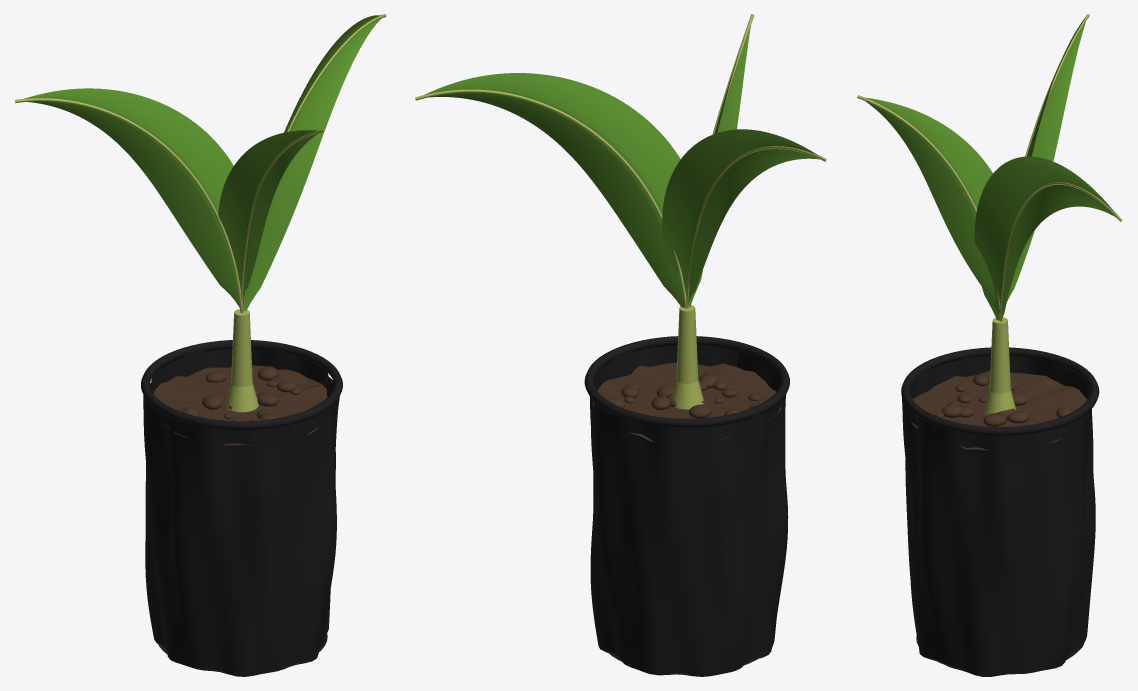
File: bibit-sawit-3-bulan.glb
3 renders of one model, left to right at view 1: azimuth 30°, elevation 25°; view 2: azimuth 150°, elevation 25°; view 3: azimuth 270°, elevation 25°, orthographic. The views are drawn at different scales.
Parts seen in each view (by area): view 1: polybag, daun_helai_2, daun_helai_1, daun_helai_3, tanah_permukaan, polybag_bibir, batang, daun_helai_2_tulang, seludang, daun_helai_3_tulang; view 2: polybag, daun_helai_1, daun_helai_2, tanah_permukaan, polybag_bibir, batang, daun_helai_3, daun_helai_1_tulang, daun_helai_2_tulang, seludang; view 3: polybag, daun_helai_1, daun_helai_3, tanah_permukaan, polybag_bibir, daun_helai_2, batang, daun_helai_1_tulang, daun_helai_3_tulang, seludang.
Boxes of the visible parts, x1,y1,x2,y2 form: polybag: (143,348,339,676); daun_helai_2: (24,88,250,307); daun_helai_1: (242,15,381,313); daun_helai_3: (218,130,322,296); tanah_permukaan: (153,365,327,445); polybag_bibir: (141,340,342,429); batang: (231,309,252,386); daun_helai_2_tulang: (15,98,243,312); seludang: (225,383,258,412); daun_helai_3_tulang: (241,129,322,301); polybag: (590,344,788,676); daun_helai_1: (424,73,702,307); daun_helai_2: (662,129,819,304); tanah_permukaan: (592,362,781,441); polybag_bibir: (584,336,789,427); batang: (676,305,698,383); daun_helai_3: (688,26,750,288); daun_helai_1_tulang: (415,89,686,308); daun_helai_2_tulang: (686,146,826,308); seludang: (672,380,704,409); polybag: (902,356,1095,676); daun_helai_1: (974,156,1116,322); daun_helai_3: (864,97,995,300); tanah_permukaan: (911,371,1091,450); polybag_bibir: (901,347,1099,435); daun_helai_2: (1001,18,1085,309); batang: (989,317,1010,393); daun_helai_1_tulang: (999,182,1122,321); daun_helai_3_tulang: (857,95,1000,309); seludang: (984,389,1016,415).
Bounding box in the file's own units: 0.2407 × 0.3315 × 0.1463.
